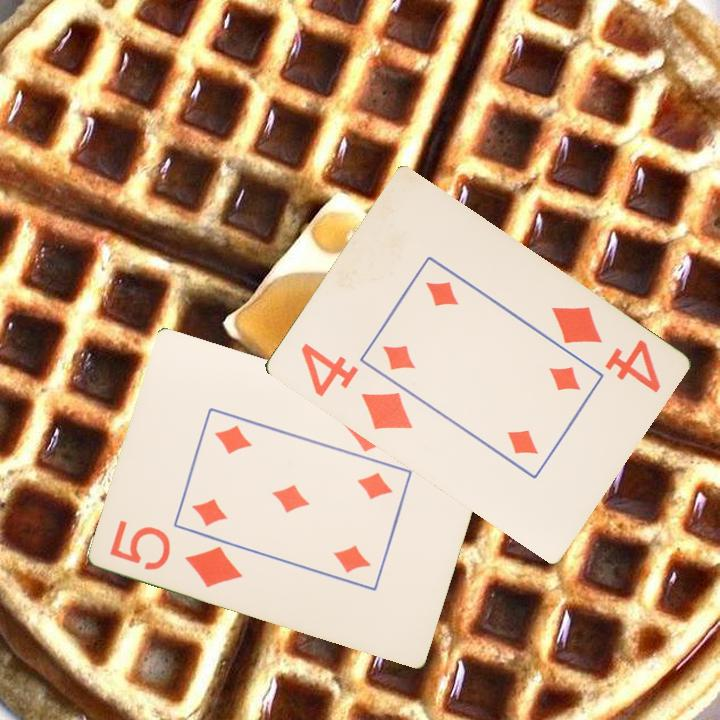4d: (546, 302, 664, 397), (296, 339, 415, 433)
5d: (106, 516, 246, 591)
